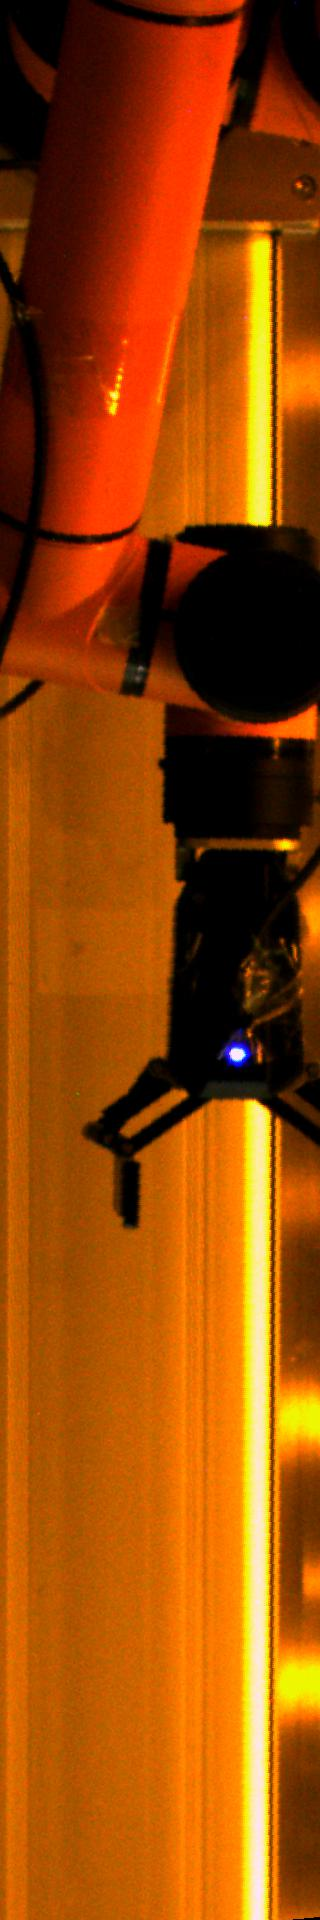keyPoint_1: (222, 1037, 253, 1067)
